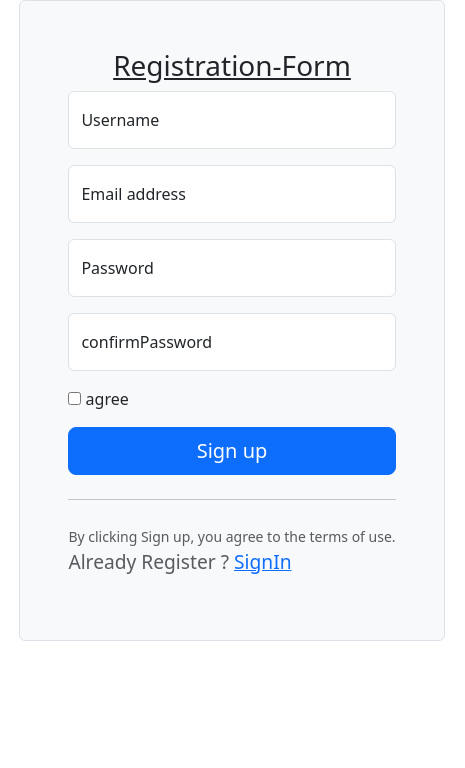
Test case: Registration Component › displays validation errors on submit with invalid input
What coordinates should you click on to do the following:
click the button "Sign up"
I would click on:
 (232, 451)
Its box is 68,427 -> 396,475.
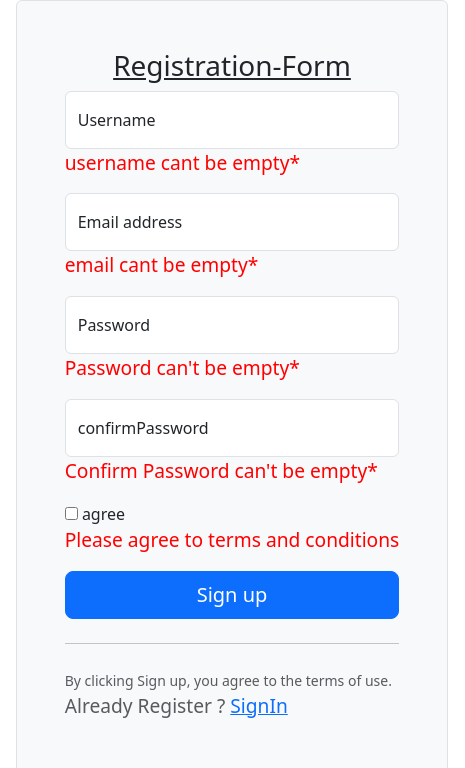
Check: the text "username cant be empty*" is shown, box 65,149 -> 300,176
Check: the text "email cant be empty*" is shown, box 65,251 -> 258,278
Check: the text "Password can't be empty*" is shown, box 65,354 -> 300,381
